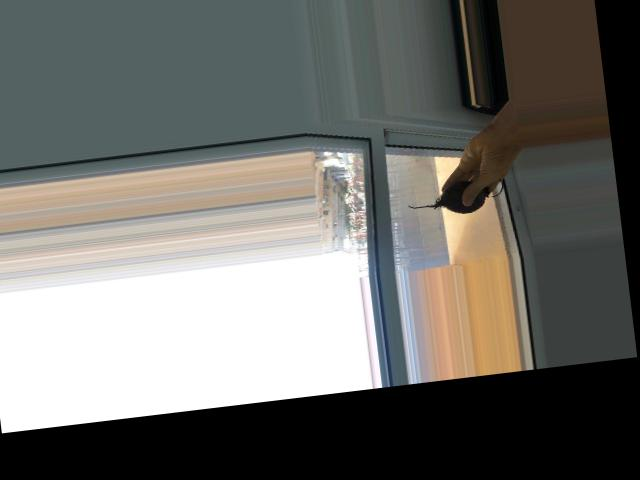beet: (404, 166, 505, 220)
